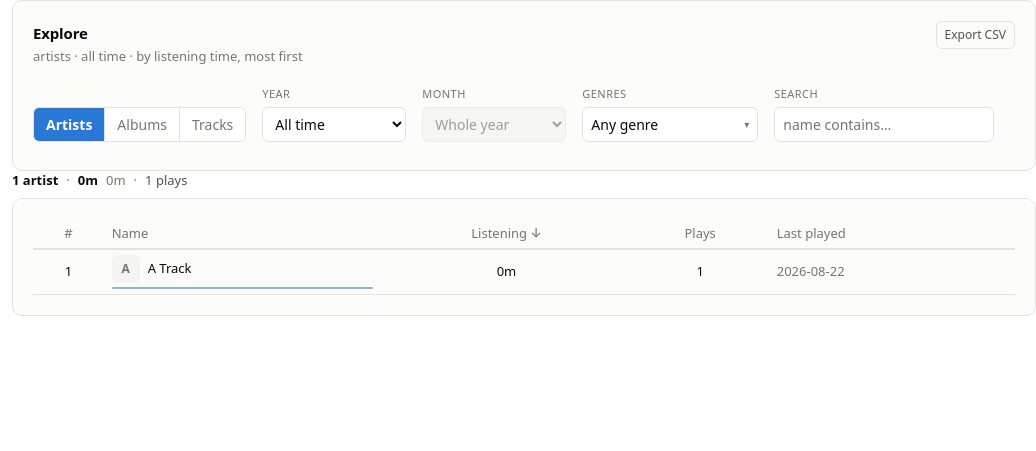
Test case: genre filter › sends the selection to the API and puts it in the URL
This screenshot has width=1036, height=451.
Click the button "Any genre ▾" at (670, 124), box [582,106,758,142]
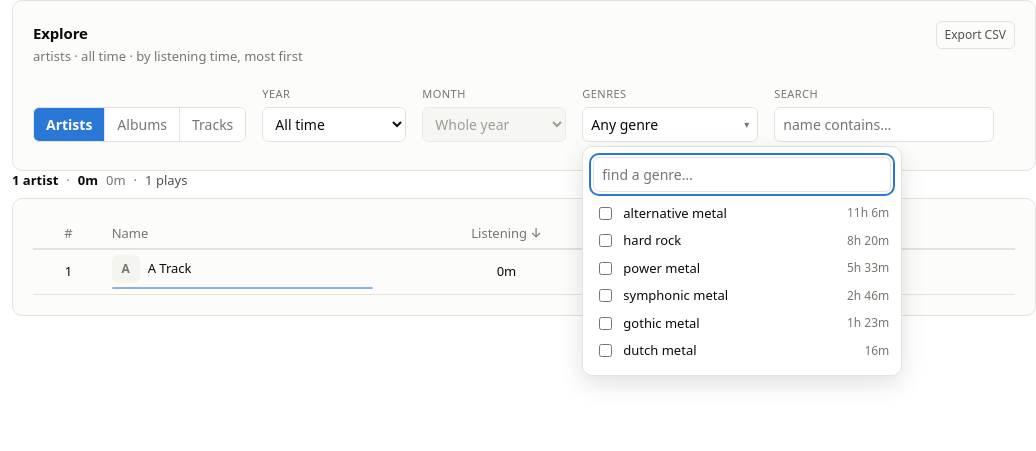
Click the checkbox labelled "power metal 5h 33m" at (606, 268), box [599,262,612,275]
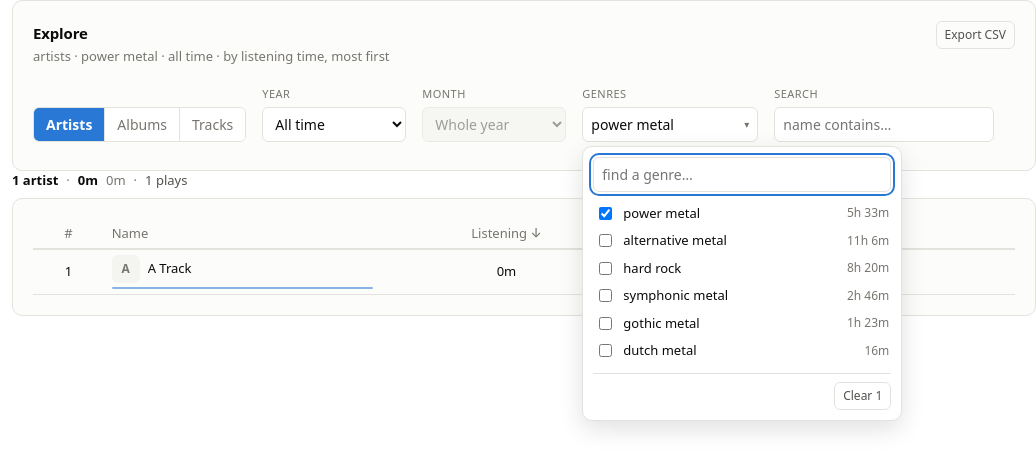
Result: the 1st text "power metal" is shown at [591,114,674,134]
